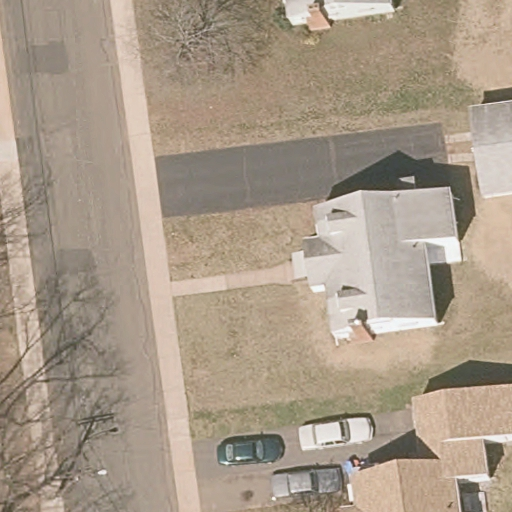DT: (52, 466, 108, 496)
